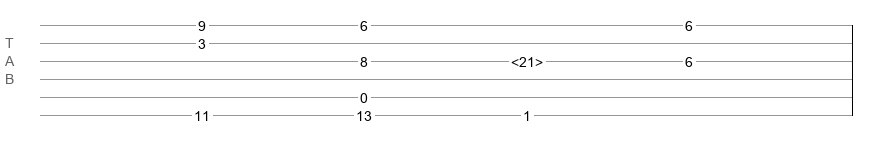0: (360, 90, 368, 100)
1: (523, 108, 531, 118)
11: (194, 108, 210, 118)
13: (356, 108, 372, 118)
3: (198, 36, 206, 46)
6: (360, 18, 368, 28), (685, 18, 693, 28), (685, 54, 693, 64)
8: (360, 54, 368, 64)
9: (198, 18, 206, 28)
harmonic: (511, 54, 543, 64)
